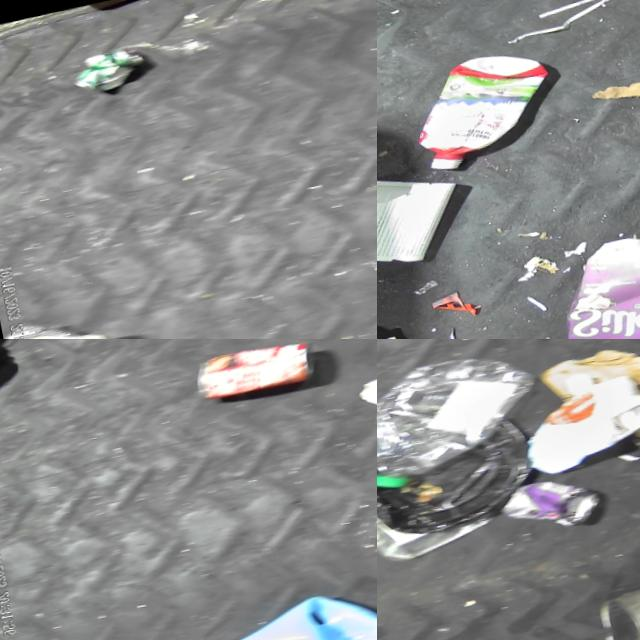can: (188, 339, 318, 406), (494, 471, 607, 548), (580, 555, 640, 640), (67, 43, 149, 98)
non_white_jug: (207, 578, 377, 640)
plastic_bottle: (377, 341, 551, 502)
